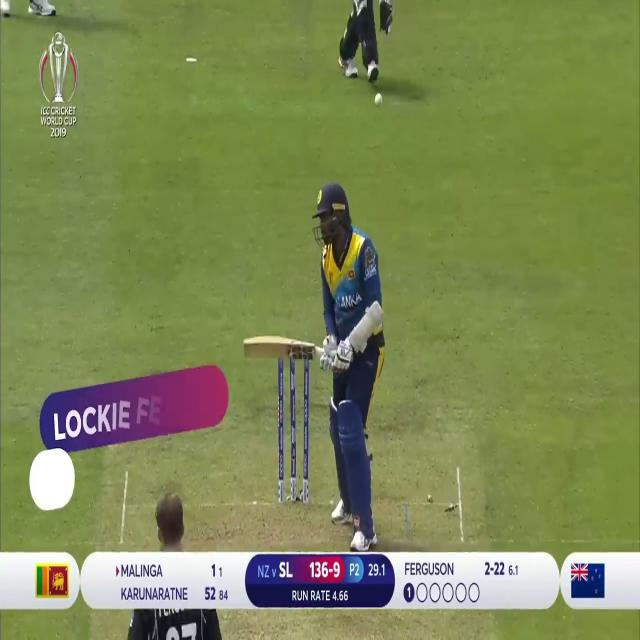ball: (373, 85, 387, 118)
